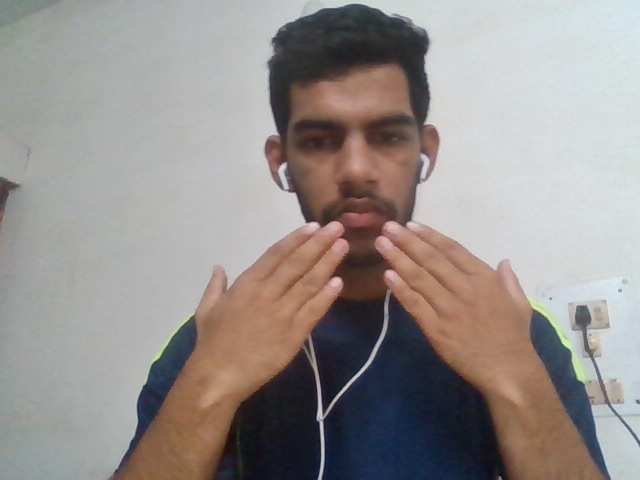thanks: (170, 206, 564, 383)
